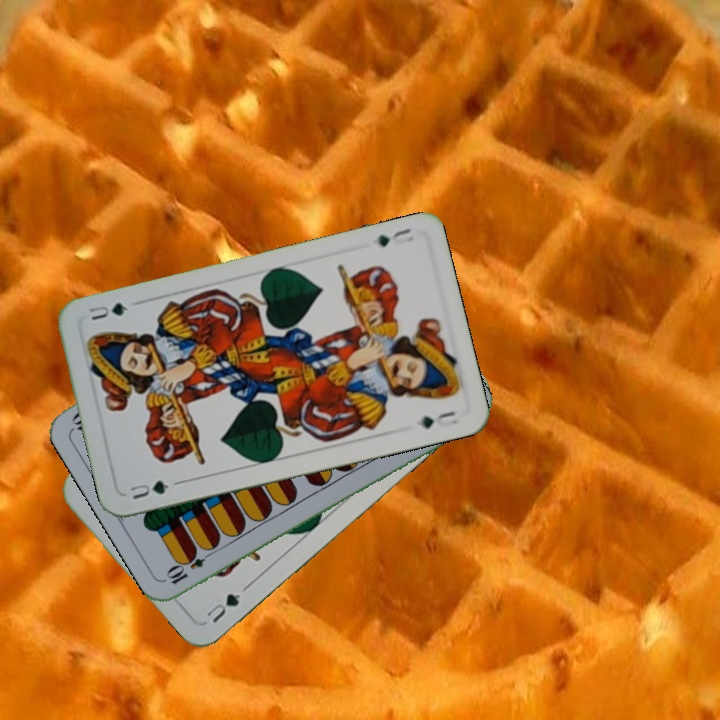E10: (163, 545, 217, 587)
GU: (202, 589, 244, 626), (126, 476, 172, 503), (372, 224, 417, 250)
